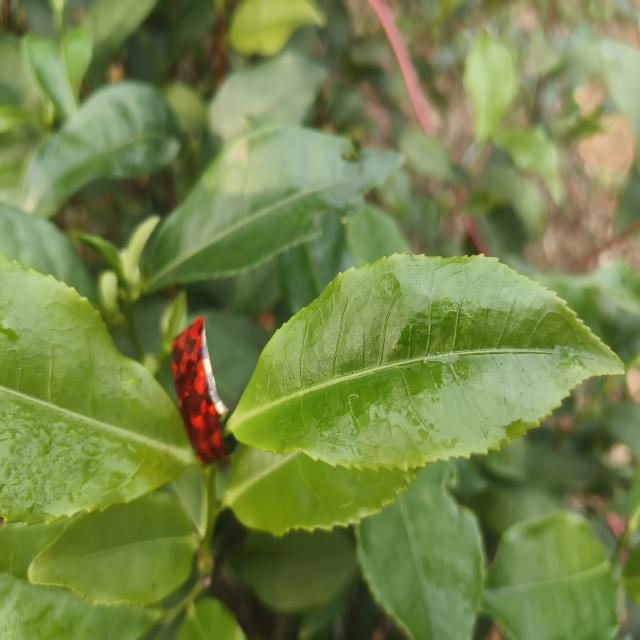Leaf: (230, 254, 622, 470), (0, 255, 196, 524), (146, 125, 402, 292), (356, 462, 484, 640), (21, 81, 180, 218), (28, 492, 198, 604), (483, 511, 617, 640), (224, 445, 415, 535), (209, 51, 327, 140), (230, 529, 356, 612), (23, 26, 92, 119), (463, 32, 517, 143), (229, 0, 325, 56), (493, 127, 561, 203)
